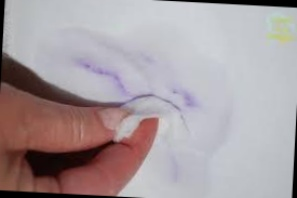ink: (82, 60, 122, 86), (176, 87, 203, 109)
